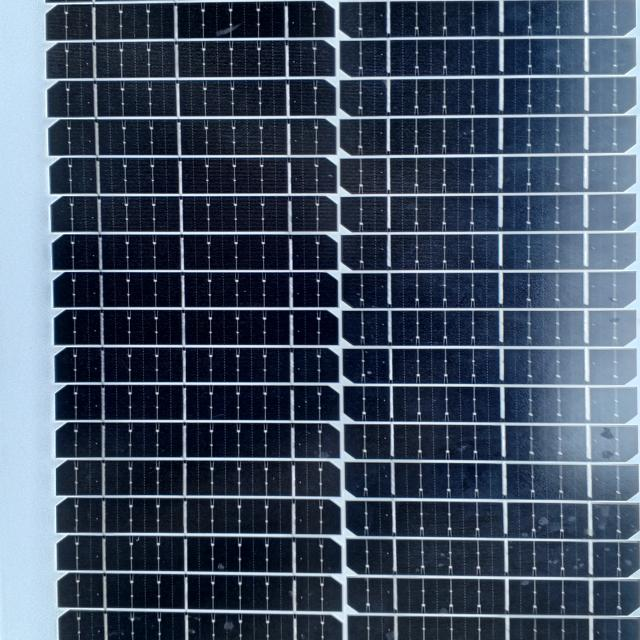Clean: (21, 5, 640, 635)
